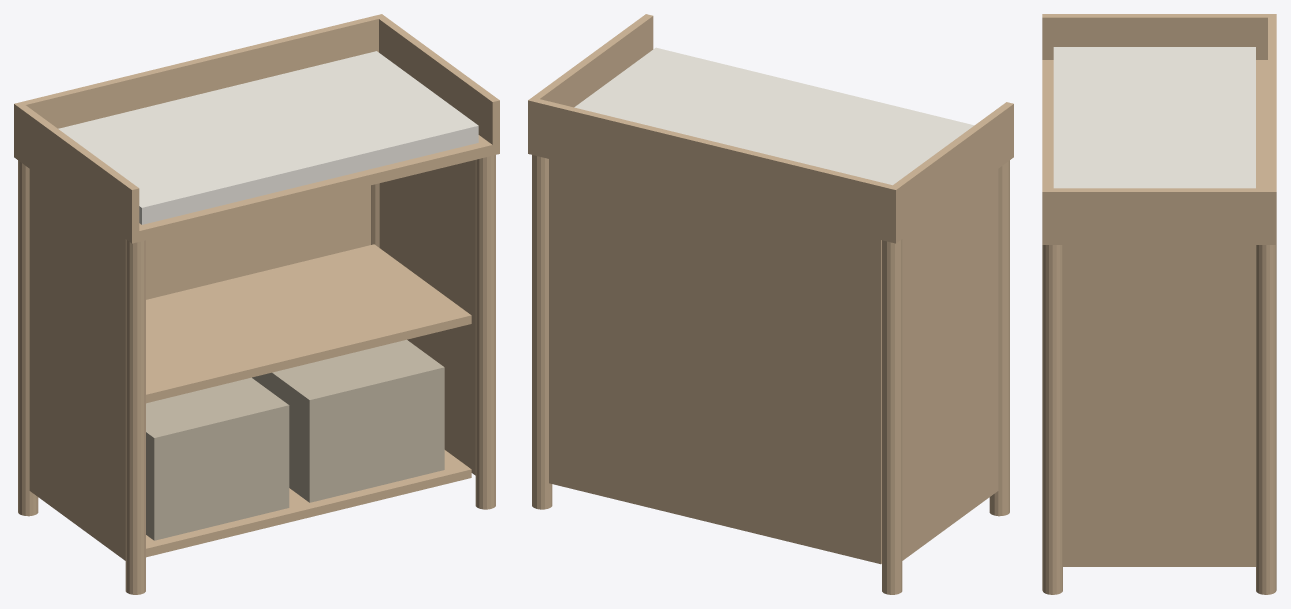
The model's file is changing_table_team_wood.glb.
The picture shows the model from 3 angles, left to right: view 1: azimuth 30°, elevation 25°; view 2: azimuth 150°, elevation 25°; view 3: azimuth 270°, elevation 25°; orthographic projection.
Visible parts, largest first — view 1: frame, bin, pad; view 2: frame, pad; view 3: frame, pad.
Part boxes in pixels (box(x1,y1,x2,y2)): frame: box(14, 14, 499, 594); bin: box(146, 339, 444, 540); pad: box(58, 51, 478, 224); frame: box(528, 14, 1013, 594); pad: box(574, 47, 973, 185); frame: box(1042, 14, 1276, 594); pad: box(1053, 47, 1255, 188).
Size of the model in its own units: 0.9 by 0.95 by 0.5.
